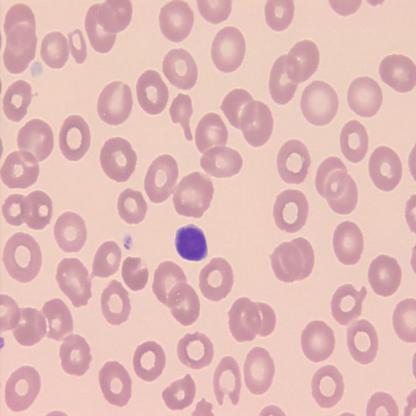Lymphocyte: (173, 223, 209, 264)
